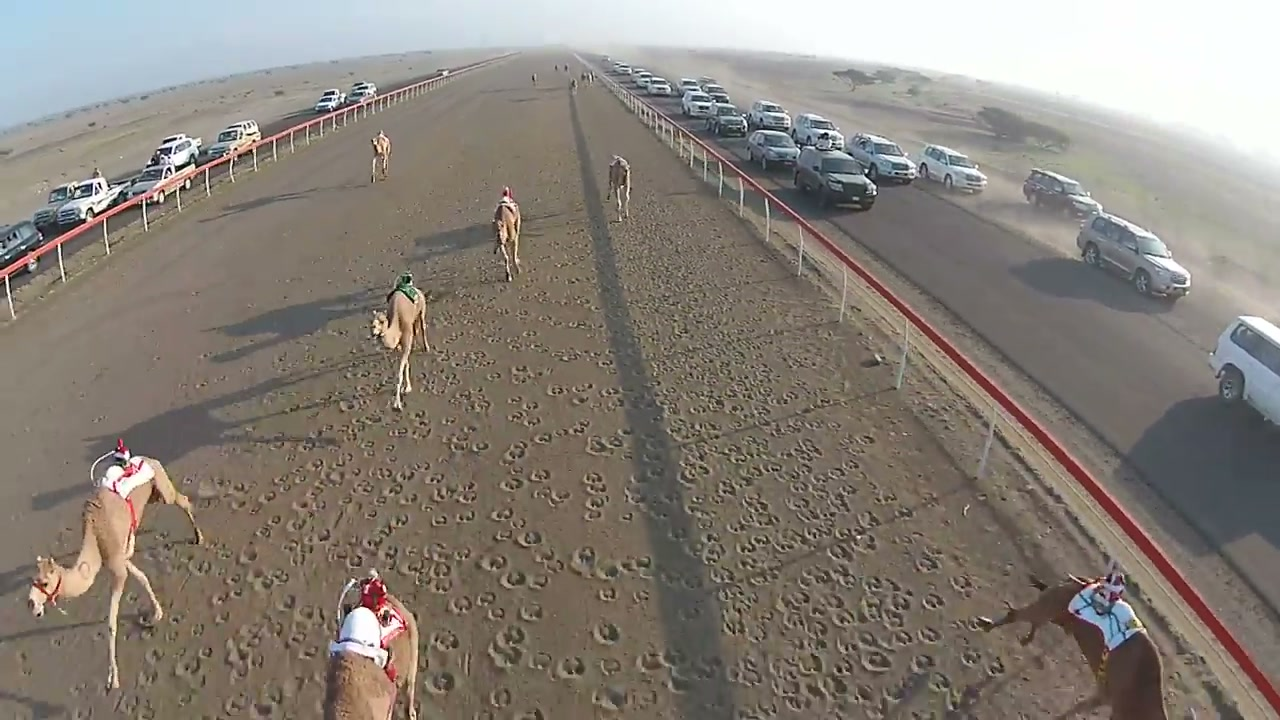animal_foot_print: (116, 97, 1092, 719)
